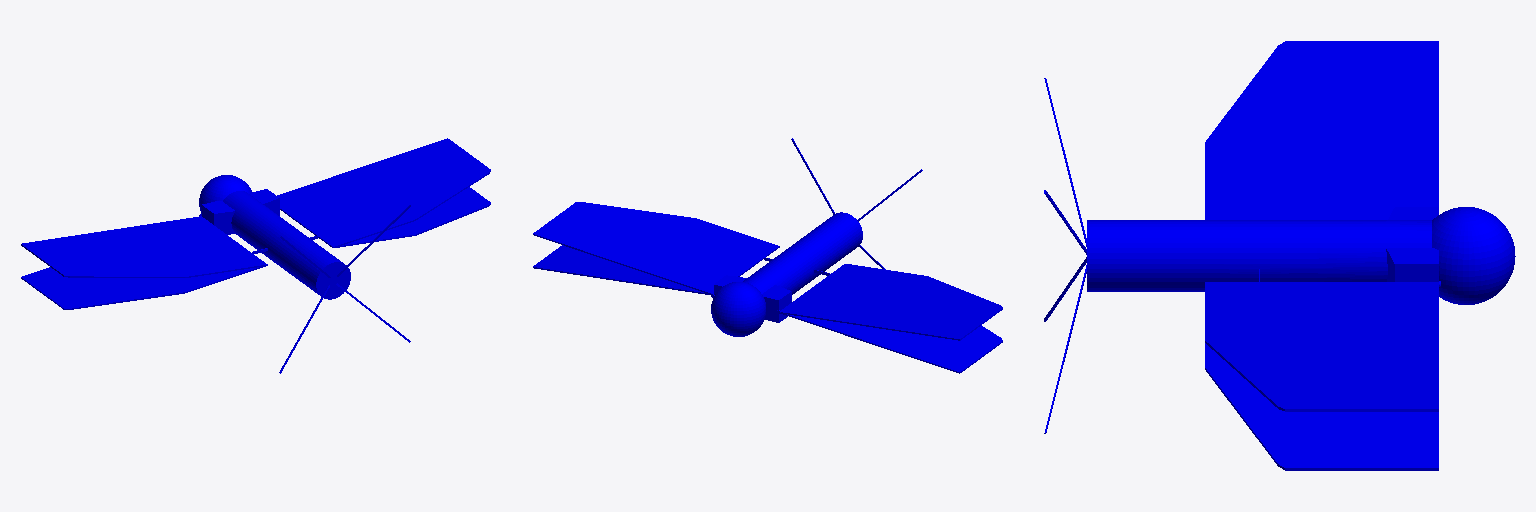
URDF robot description (flapper):
<?xml version="1.0" ?>
<robot name="flapper">
  <link name="base_link">
    <inertial>
      <origin rpy="0 0 0" xyz="-4.19101812440002e-08 0.12776286582420185 0.0"/>
      <mass value="0.333408595011269"/>
      <inertia ixx="0.001649" ixy="-0.0" ixz="0.0" iyy="9.4e-05" iyz="-0.0" izz="0.001668"/>
    </inertial>
    <visual>
      <origin rpy="0 0 0" xyz="0 0 0"/>
      <geometry>
        <mesh filename="./meshes/base_link.stl" scale="0.001 0.001 0.001"/>
      </geometry>
      <material name="Blue">
        <color rgba="0.0 0.0 1.0 1.0"/>
      </material>
    </visual>
    <collision>
      <origin rpy="0 0 0" xyz="0 0 0"/>
      <geometry>
        <mesh filename="./meshes/base_link.stl" scale="0.001 0.001 0.001"/>
      </geometry>
    </collision>
  </link>
  
  <link name="left_wing_back_1">
    <inertial>
      <origin rpy="0 0 0" xyz="0.06326482306657802 -0.06051126668244686 -0.07422928663834187"/>
      <mass value="0.03802500177087531"/>
      <inertia ixx="0.000125" ixy="-9e-06" ixz="6.4e-05" iyy="0.00013" iyz="1e-05" izz="0.000102"/>
    </inertial>
    <visual>
      <origin rpy="0 0 0" xyz="-0.0375 -0.195 -0.0"/>
      <geometry>
        <mesh filename="./meshes/left_wing_back_1.stl" scale="0.001 0.001 0.001"/>
      </geometry>
      <material name="Blue">
        <color rgba="0.0 0.0 1.0 1.0"/>
      </material>
    </visual>
    <collision>
      <origin rpy="0 0 0" xyz="-0.0375 -0.195 -0.0"/>
      <geometry>
        <mesh filename="./meshes/left_wing_back_1.stl" scale="0.001 0.001 0.001"/>
      </geometry>
    </collision>
  </link>
  
  <link name="right_wing_back_1">
    <inertial>
      <origin rpy="0 0 0" xyz="-0.062115755843106156 -0.06051126668244711 -0.07519346805287182"/>
      <mass value="0.0380250017708754"/>
      <inertia ixx="0.000125" ixy="9e-06" ixz="-6.4e-05" iyy="0.00013" iyz="1e-05" izz="0.000102"/>
    </inertial>
    <visual>
      <origin rpy="0 0 0" xyz="0.0375 -0.195 -0.0"/>
      <geometry>
        <mesh filename="./meshes/right_wing_back_1.stl" scale="0.001 0.001 0.001"/>
      </geometry>
      <material name="Blue">
        <color rgba="0.0 0.0 1.0 1.0"/>
      </material>
    </visual>
    <collision>
      <origin rpy="0 0 0" xyz="0.0375 -0.195 -0.0"/>
      <geometry>
        <mesh filename="./meshes/right_wing_back_1.stl" scale="0.001 0.001 0.001"/>
      </geometry>
    </collision>
  </link>
  
  <link name="right_wing_front_1">
    <inertial>
      <origin rpy="0 0 0" xyz="-0.06326482250778453 -0.06051126668244711 0.07422928663834194"/>
      <mass value="0.03802500177087537"/>
      <inertia ixx="0.000125" ixy="9e-06" ixz="6.4e-05" iyy="0.00013" iyz="-1e-05" izz="0.000102"/>
    </inertial>
    <visual>
      <origin rpy="0 0 0" xyz="0.0375 -0.195 -0.0"/>
      <geometry>
        <mesh filename="./meshes/right_wing_front_1.stl" scale="0.001 0.001 0.001"/>
      </geometry>
      <material name="Blue">
        <color rgba="0.0 0.0 1.0 1.0"/>
      </material>
    </visual>
    <collision>
      <origin rpy="0 0 0" xyz="0.0375 -0.195 -0.0"/>
      <geometry>
        <mesh filename="./meshes/right_wing_front_1.stl" scale="0.001 0.001 0.001"/>
      </geometry>
    </collision>
  </link>
  
  <link name="left_wing_front_1">
    <inertial>
      <origin rpy="0 0 0" xyz="0.062115756401899584 -0.06051126668244694 0.07519346805287173"/>
      <mass value="0.038025001770875345"/>
      <inertia ixx="0.000125" ixy="-9e-06" ixz="-6.4e-05" iyy="0.00013" iyz="-1e-05" izz="0.000102"/>
    </inertial>
    <visual>
      <origin rpy="0 0 0" xyz="-0.0375 -0.195 -0.0"/>
      <geometry>
        <mesh filename="./meshes/left_wing_front_1.stl" scale="0.001 0.001 0.001"/>
      </geometry>
      <material name="Blue">
        <color rgba="0.0 0.0 1.0 1.0"/>
      </material>
    </visual>
    <collision>
      <origin rpy="0 0 0" xyz="-0.0375 -0.195 -0.0"/>
      <geometry>
        <mesh filename="./meshes/left_wing_front_1.stl" scale="0.001 0.001 0.001"/>
      </geometry>
    </collision>
  </link>
  
  <joint name="left_wing_back_m" type="revolute">
    <origin rpy="0 0 0" xyz="0.0375 0.195 0.0"/>
    <parent link="base_link"/>
    <child link="left_wing_back_1"/>
    <axis xyz="0.0 -1.0 0.0"/>
    <limit effort="100" lower="-0.785398" upper="0.0" velocity="100"/>
  </joint>
  
  <joint name="right_wing_back" type="revolute">
    <origin rpy="0 0 0" xyz="-0.0375 0.195 0.0"/>
    <parent link="base_link"/>
    <child link="right_wing_back_1"/>
    <axis xyz="0.0 -1.0 0.0"/>
    <limit effort="100" lower="0.0" upper="0.785398" velocity="100"/>
  </joint>
  
  <joint name="right_wing_front_m" type="revolute">
    <origin rpy="0 0 0" xyz="-0.0375 0.195 0.0"/>
    <parent link="base_link"/>
    <child link="right_wing_front_1"/>
    <axis xyz="0.0 -1.0 0.0"/>
    <limit effort="100" lower="-0.785398" upper="0.0" velocity="100"/>
  </joint>
  
  <joint name="left_wing_front" type="revolute">
    <origin rpy="0 0 0" xyz="0.0375 0.195 0.0"/>
    <parent link="base_link"/>
    <child link="left_wing_front_1"/>
    <axis xyz="0.0 -1.0 0.0"/>
    <limit effort="100" lower="0.0" upper="0.785398" velocity="100"/>
  </joint>
  
</robot>

--- Render facts (derived) ---
The picture shows the robot from 3 angles, left to right: view 1: azimuth 30°, elevation 25°; view 2: azimuth 150°, elevation 25°; view 3: azimuth 270°, elevation 25°; orthographic projection.
Model flapper with 5 links and 4 joints (4 revolute), rooted at base_link, posed all joints at 0.
Links seen in each view (by area): view 1: left_wing_front_1, right_wing_front_1, base_link, right_wing_back_1, left_wing_back_1; view 2: left_wing_front_1, right_wing_front_1, base_link, right_wing_back_1, left_wing_back_1; view 3: right_wing_front_1, base_link, left_wing_front_1, left_wing_back_1.
Boxes of the visible links, x1,y1,x2,y2 form: left_wing_front_1: (277,138,490,247); right_wing_front_1: (21,216,267,277); base_link: (199,175,410,373); right_wing_back_1: (21,265,267,309); left_wing_back_1: (333,187,490,247); left_wing_front_1: (533,202,779,294); right_wing_front_1: (781,264,1002,340); base_link: (711,138,922,336); right_wing_back_1: (780,313,1002,373); left_wing_back_1: (533,245,711,294); right_wing_front_1: (1205,41,1438,219); base_link: (1044,78,1515,433); left_wing_front_1: (1205,282,1438,411); left_wing_back_1: (1205,343,1438,470).
Bounding box of the posed robot: 0.4897 × 0.263 × 0.1512 m (x, y, z).
5 mesh visuals loaded from 5 distinct referenced files (5 binary STL).